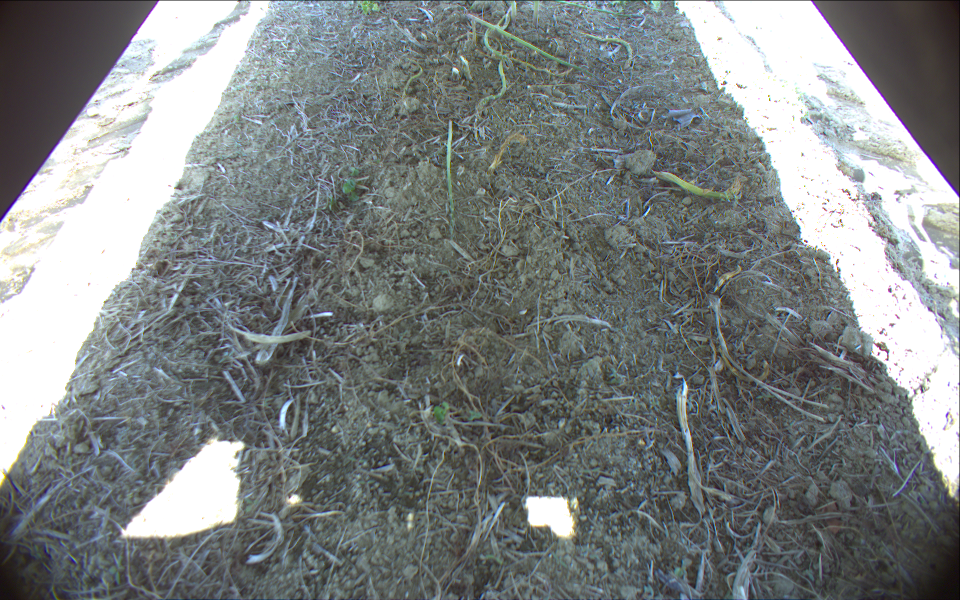aspa: (483, 4, 573, 76), (467, 14, 581, 66), (652, 170, 746, 201), (580, 31, 633, 69), (476, 59, 508, 114), (446, 119, 458, 238), (401, 58, 423, 107), (531, 1, 539, 27), (510, 1, 520, 21)
